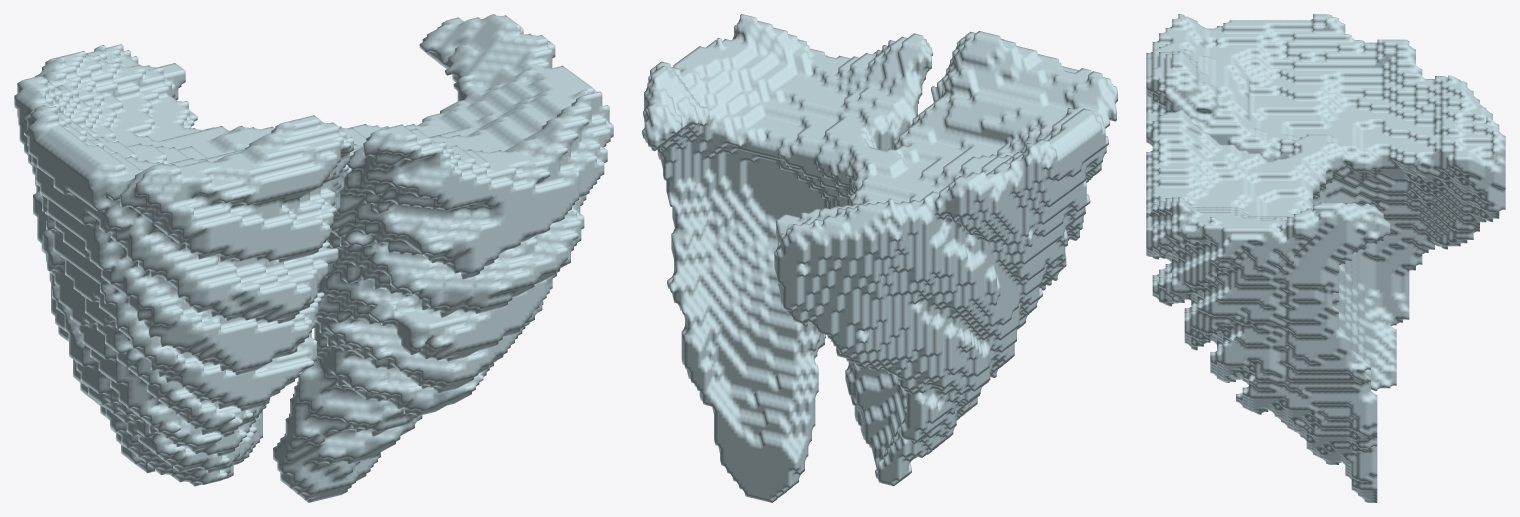
The model's file is region-21.glb.
3 renders of one model, left to right at view 1: azimuth 30°, elevation 25°; view 2: azimuth 150°, elevation 25°; view 3: azimuth 270°, elevation 25°, orthographic. The views are drawn at different scales.
Parts seen in each view (by area): view 1: digimouse-volume:21; view 2: digimouse-volume:21; view 3: digimouse-volume:21.
Boxes of the visible parts, x1,y1,x2,y2 form: digimouse-volume:21: (14, 14, 613, 502); digimouse-volume:21: (642, 14, 1117, 502); digimouse-volume:21: (1146, 14, 1505, 502).
Size of the model in its own units: 0.0138 by 0.0132 by 0.0112.
